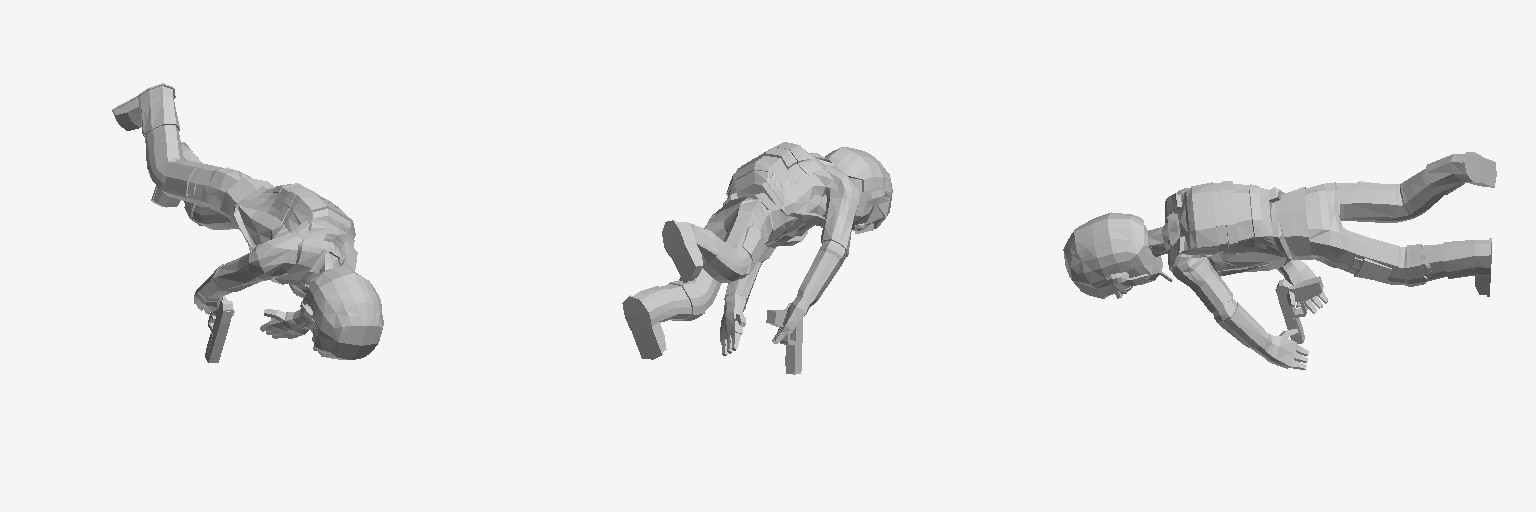
File: frame_0017.obj
3 views of the same model, side by side, from view 1: azimuth 30°, elevation 25°; view 2: azimuth 150°, elevation 25°; view 3: azimuth 270°, elevation 25° (orthographic).
Visible parts, largest first — view 1: Body, Gun; view 2: Body, Gun; view 3: Body, Gun.
Boxes of the visible parts, x1,y1,x2,y2 form: Body: [112, 83, 383, 359]; Gun: [205, 296, 233, 362]; Body: [622, 142, 892, 359]; Gun: [766, 303, 802, 374]; Body: [1063, 152, 1496, 369]; Gun: [1275, 276, 1323, 343].
Size of the model in its own units: 1.32 by 2.2 by 4.15.